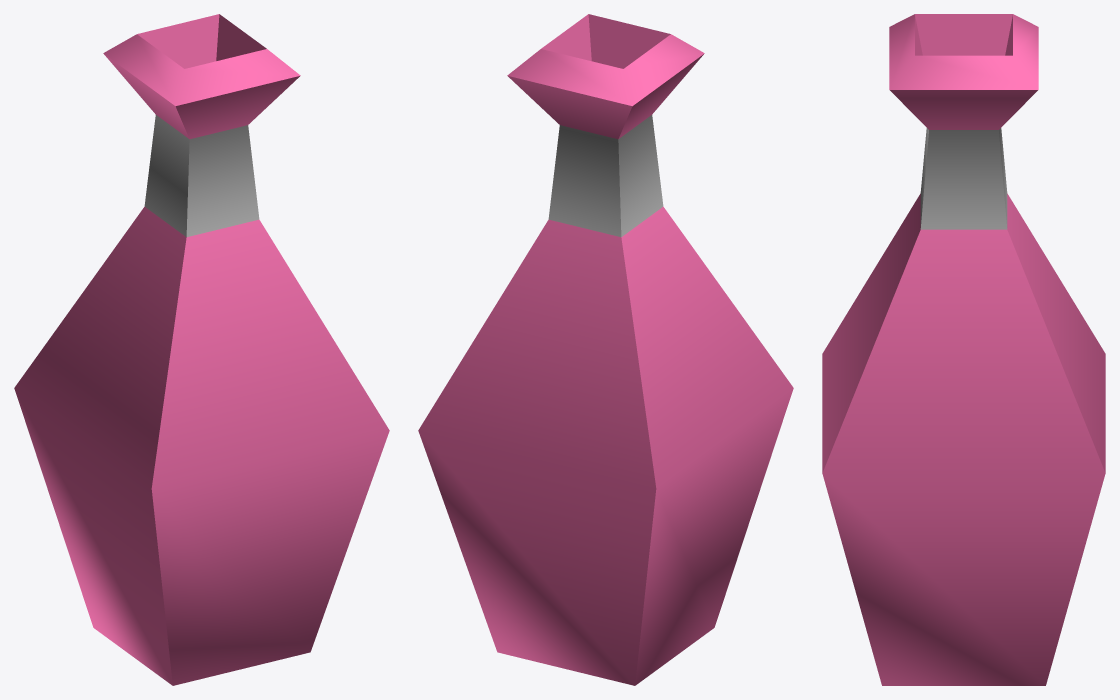
The model's file is vaseSkinny_environment_002.fbx.
3 views of the same model, side by side, from view 1: azimuth 30°, elevation 25°; view 2: azimuth 150°, elevation 25°; view 3: azimuth 270°, elevation 25° (orthographic). The views are drawn at different scales.
Visible parts, largest first — view 1: pCylinder4; view 2: pCylinder4; view 3: pCylinder4.
Boxes of the visible parts, bbox=[...] form: pCylinder4: bbox=[14, 14, 389, 685]; pCylinder4: bbox=[418, 14, 793, 685]; pCylinder4: bbox=[822, 14, 1105, 685].
Bounding box in the file's own units: 0.5904 × 1.42 × 0.5904.
